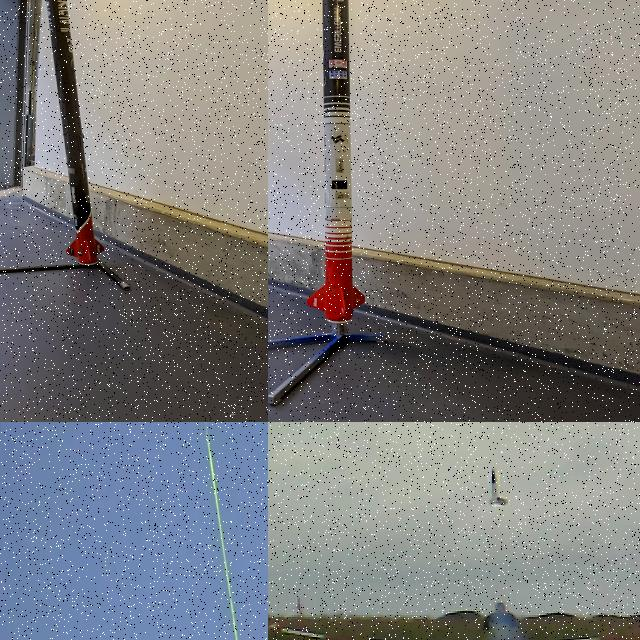Rocket: (307, 0, 365, 324), (45, 0, 105, 265), (489, 467, 510, 507)
